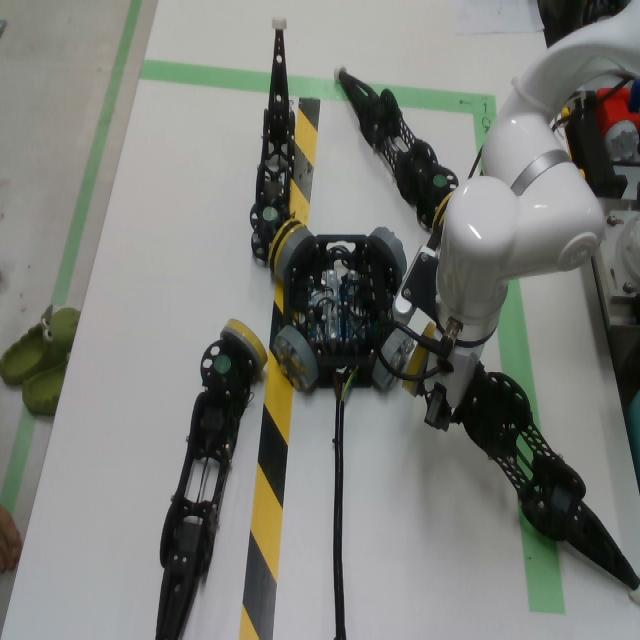body: (283, 235, 402, 389)
body_connector: (274, 325, 319, 391), (372, 329, 414, 391), (276, 227, 314, 281), (368, 227, 407, 275)
gripper: (423, 341, 486, 433)
leg: (450, 363, 640, 605), (155, 319, 268, 640), (334, 67, 459, 228), (249, 16, 304, 273), (402, 345, 430, 399), (422, 321, 436, 340)
leg_connector: (220, 319, 268, 372), (268, 219, 303, 275), (401, 345, 429, 399), (431, 192, 454, 231), (421, 323, 436, 340)
leg_marker: (214, 355, 231, 373), (263, 207, 278, 220), (433, 175, 447, 185)
